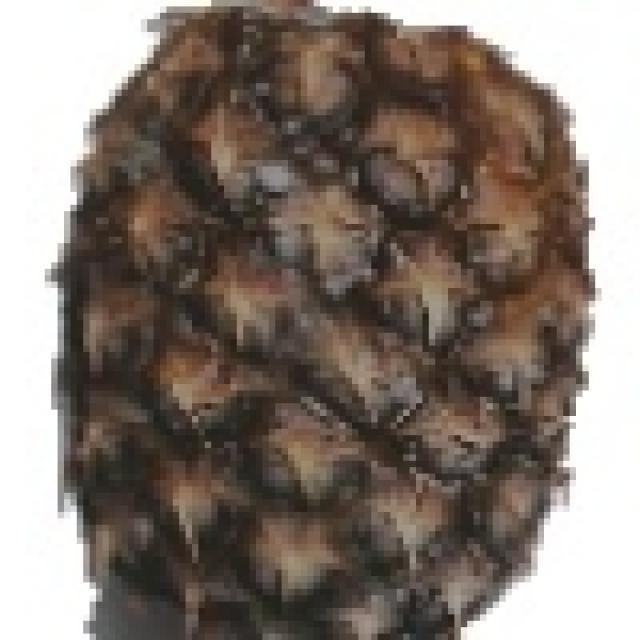pineapple: (52, 0, 594, 640)
